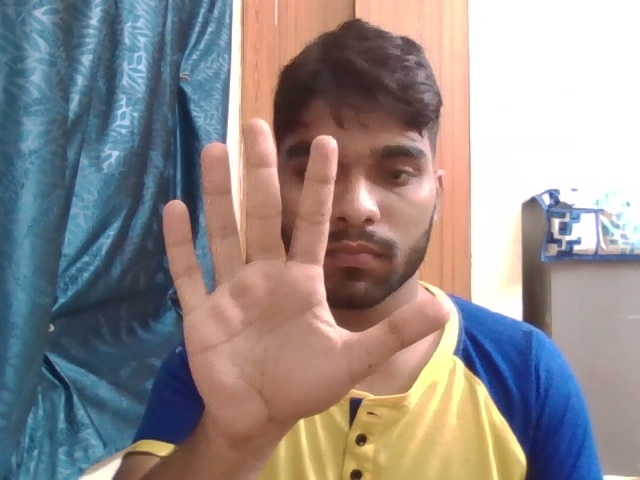Hello: (156, 118, 456, 425)
